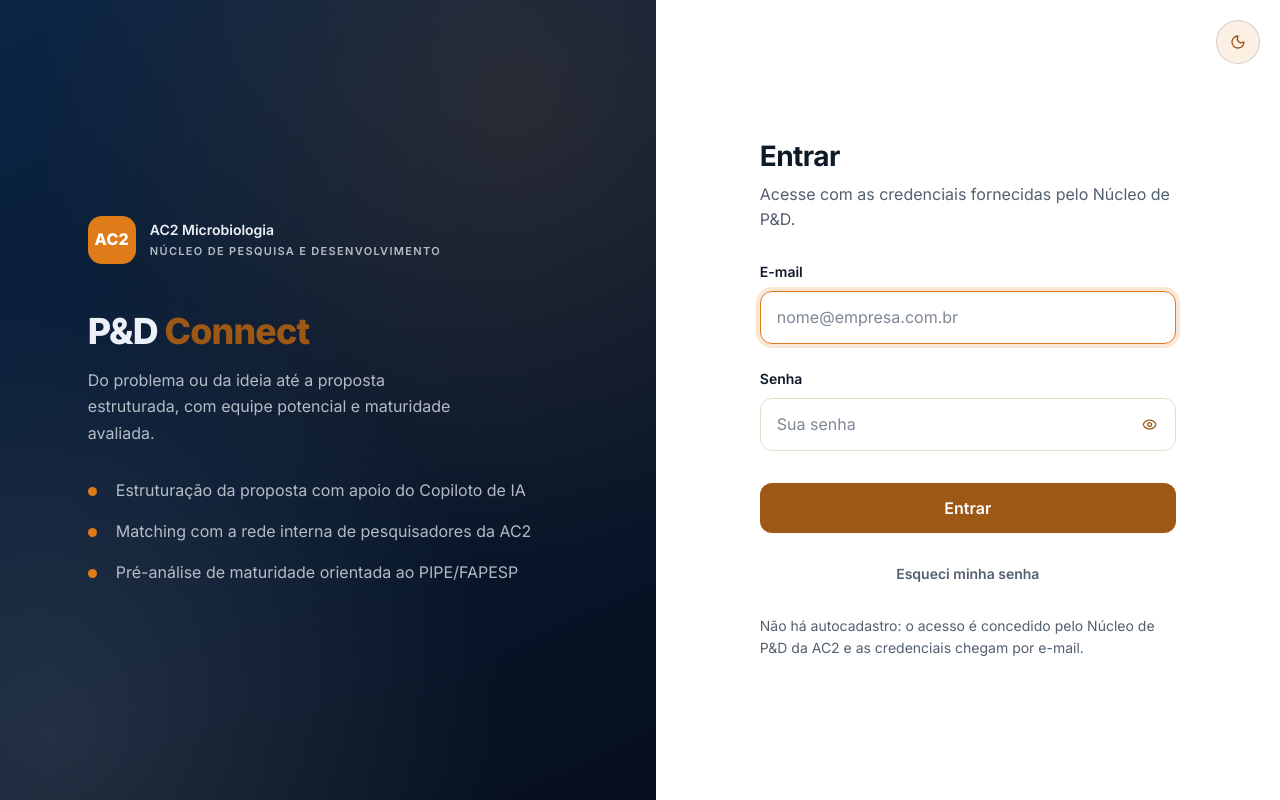
it: LoginPage — validacao no cliente › limpa o erro assim que o usuario corrige o campo
Click the button "Entrar" at (968, 508), box [760,483,1176,533]
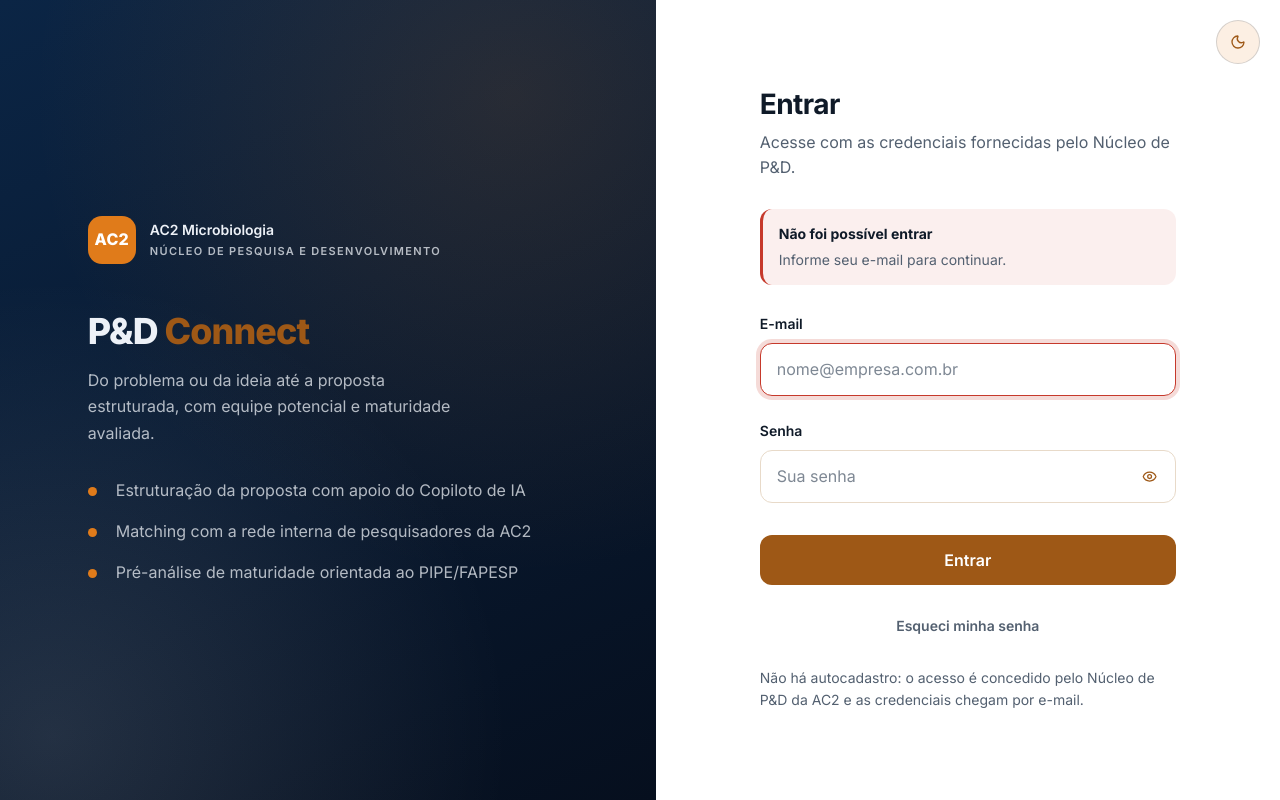
expect the message "Não foi possível entrar Informe seu e-mail para continuar." is shown: met, box [760,209,1176,285]
Type "a" into the field labelled "E-mail" at (968, 370), box [760,344,1176,396]
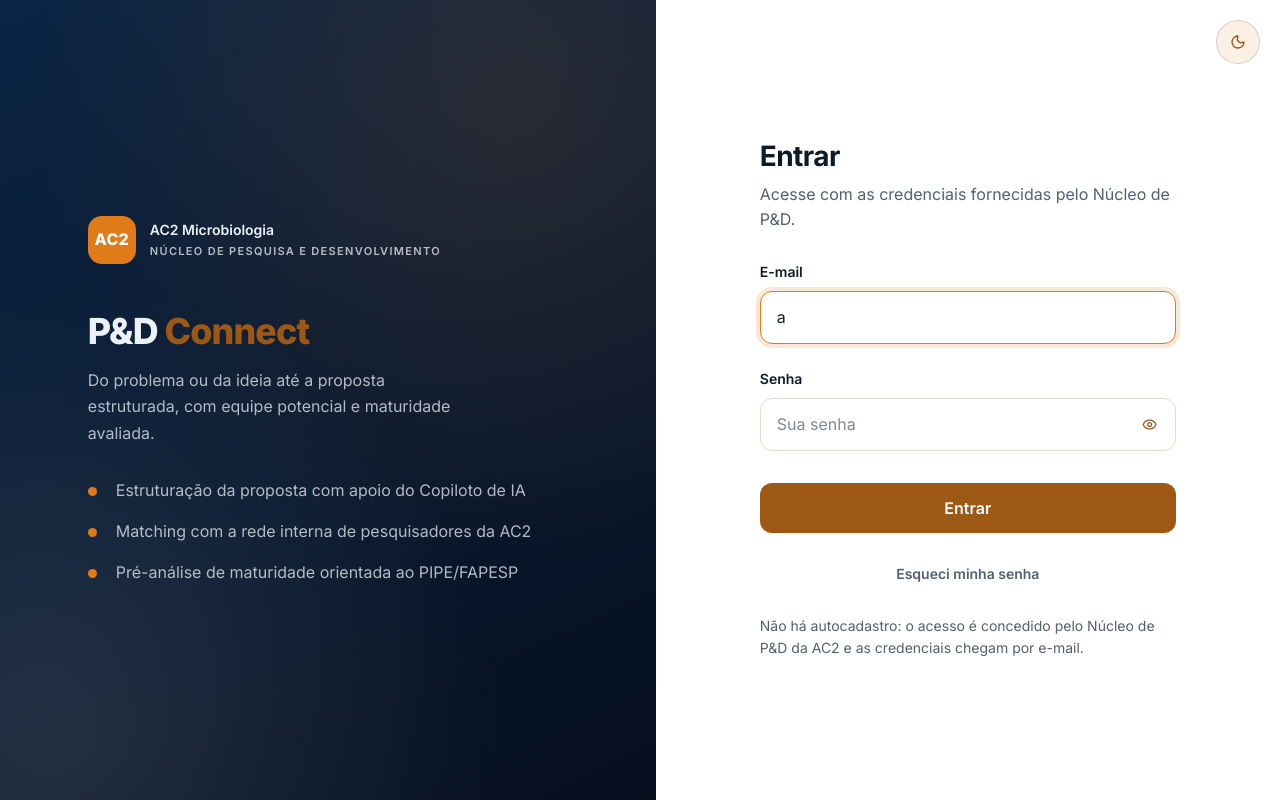
expect the message "Não foi possível entrar Informe seu e-mail para continuar." is gone: met
